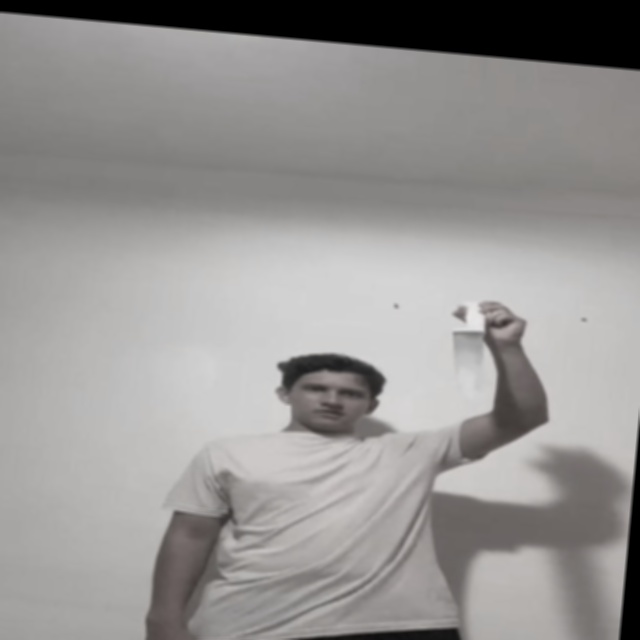Sharp-Object: (447, 327, 486, 398)
